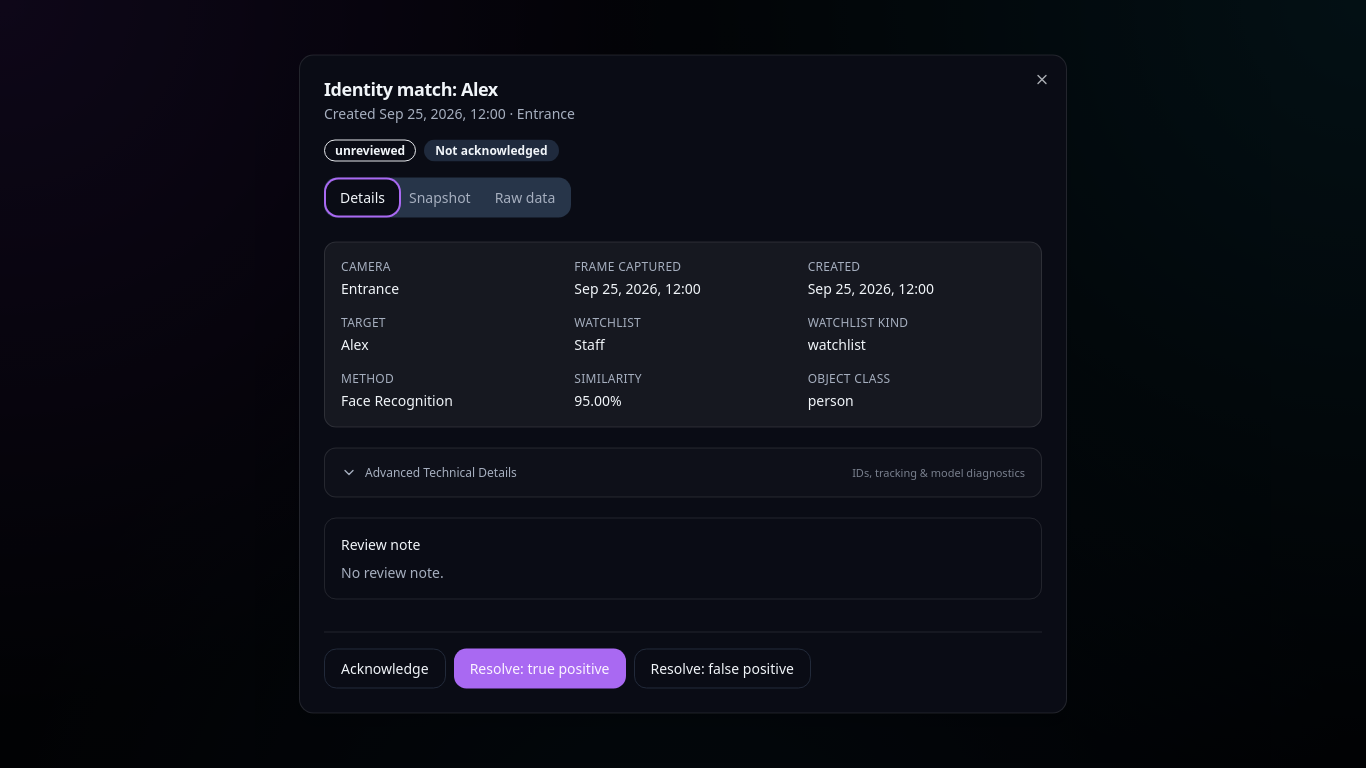
Test: alert review role and confirmation guards › allows operator to resolve with the selected disposition and note
The image size is (1366, 768).
Click the button "Resolve: false positive".
click(722, 668)  # box [634, 648, 811, 688]
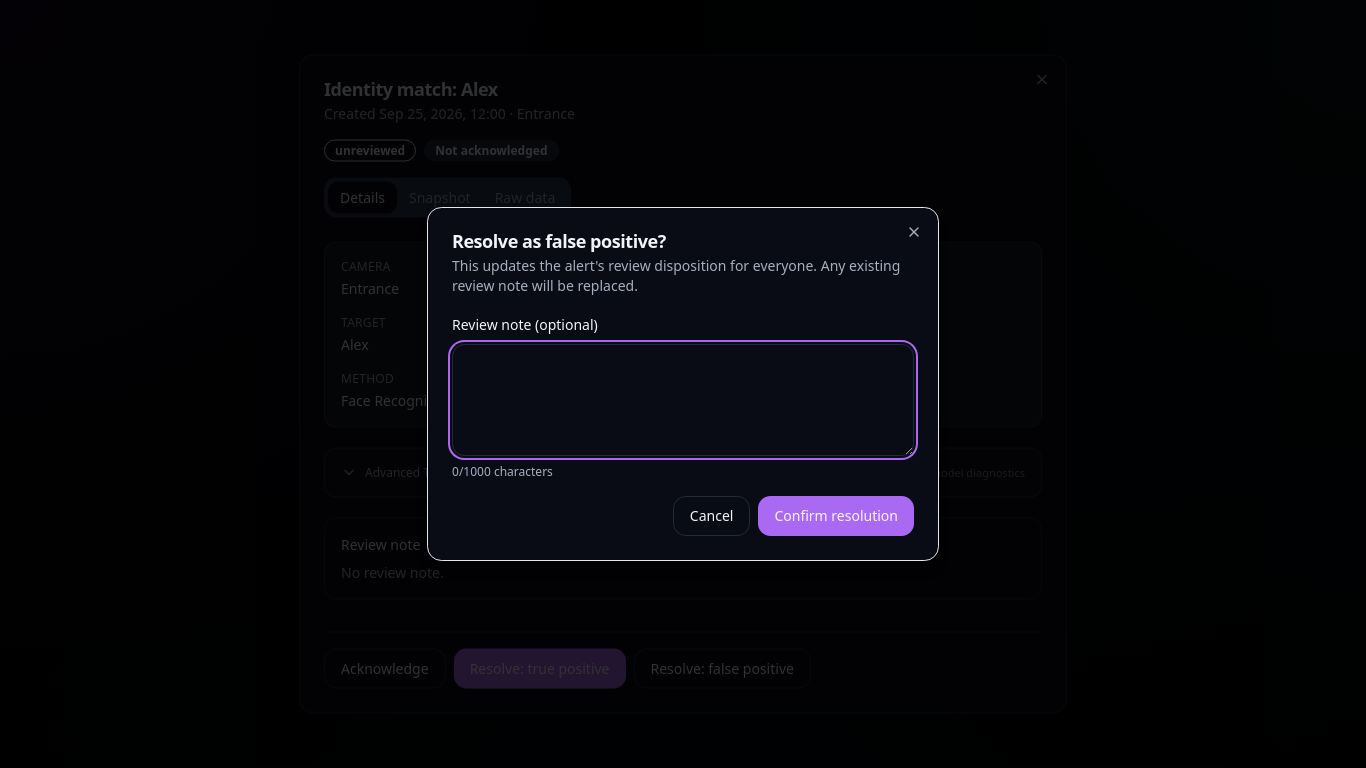
Type " reviewed evidence " into the text box labelled "Review note (optional)".
click(683, 400); type(" reviewed evidence ")  # box [452, 344, 914, 456]
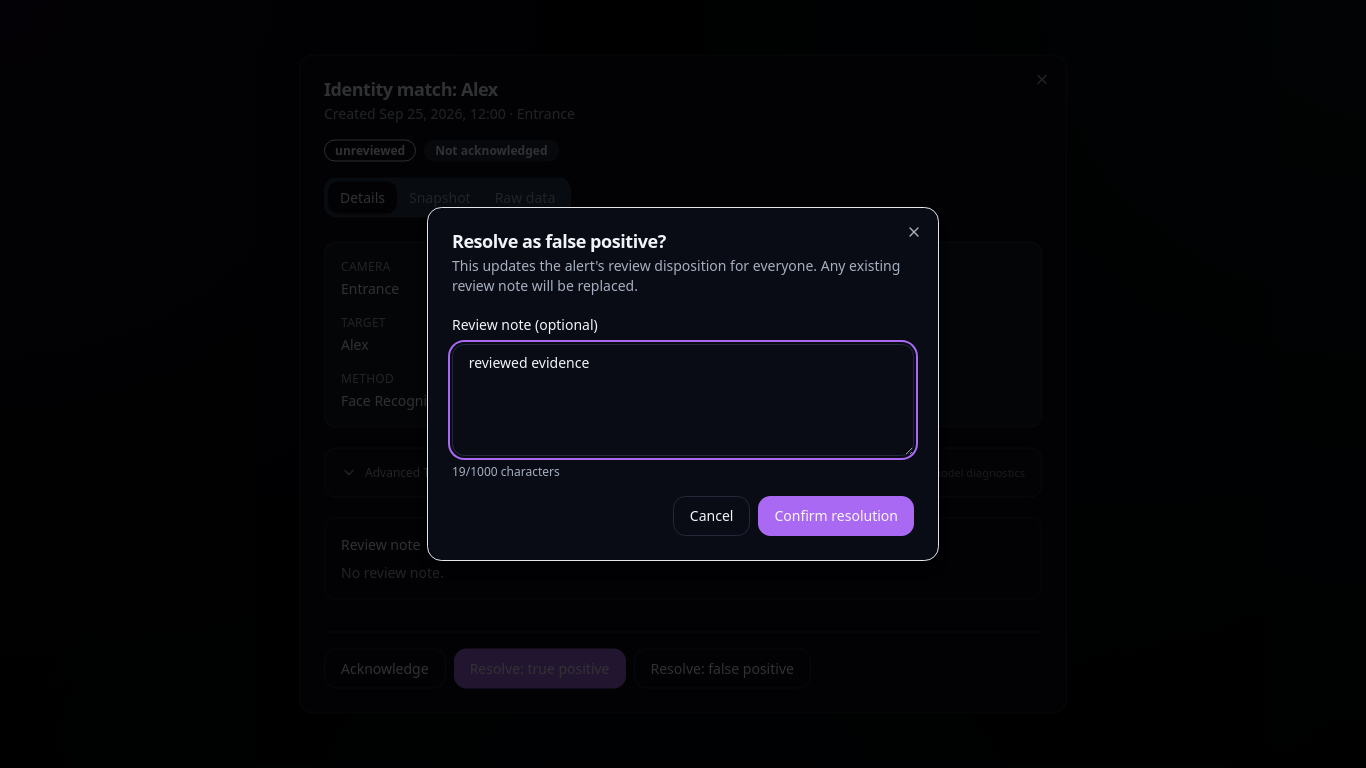
Click the button "Confirm resolution".
click(836, 516)  # box [758, 496, 914, 536]
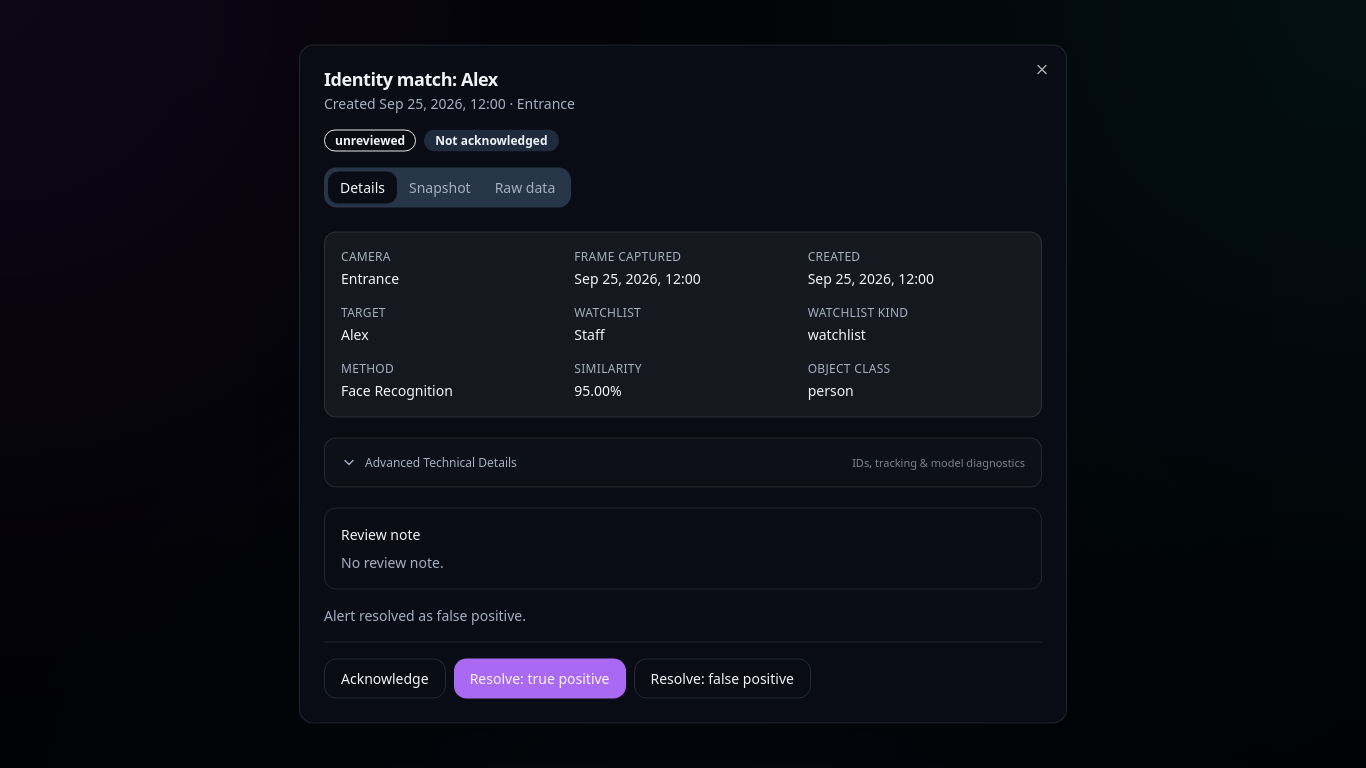
Now the text "Alert resolved as false positive." is shown, box [324, 606, 526, 624]
